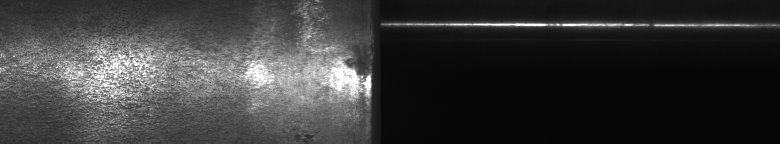kb: (4, 7, 360, 136)
